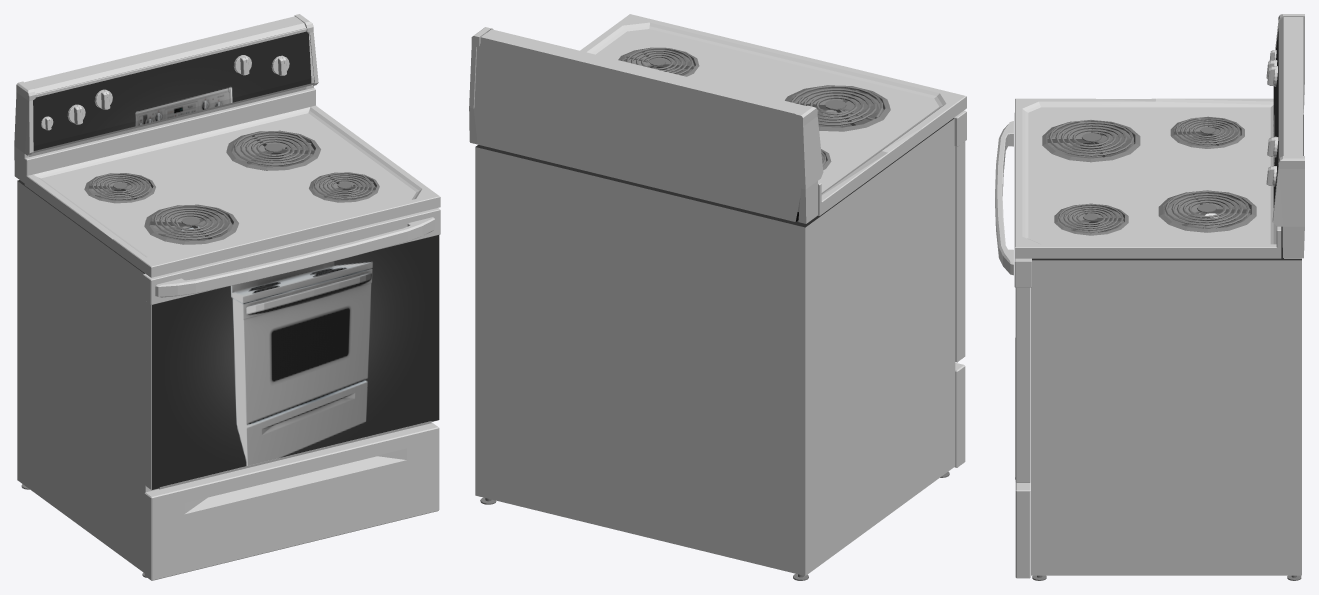
The model's file is oven.fbx.
The picture shows the model from 3 angles, left to right: view 1: azimuth 30°, elevation 25°; view 2: azimuth 150°, elevation 25°; view 3: azimuth 270°, elevation 25°; orthographic projection. The views are drawn at different scales.
Parts seen in each view (by area): view 1: oven, Oven_backsplash, oven_grates, Oven_Material #647, oven_knobs; view 2: oven, oven_grates, Oven_backsplash; view 3: oven, oven_grates, Oven_backsplash, oven_knobs.
Boxes of the visible parts, box(x1,y1,x2,y2) form: oven: box(14, 14, 440, 580); Oven_backsplash: box(17, 31, 352, 273); oven_grates: box(84, 130, 379, 244); Oven_Material #647: box(29, 86, 431, 489); oven_knobs: box(41, 55, 289, 130); oven: box(469, 14, 966, 575); oven_grates: box(618, 47, 890, 169); Oven_backsplash: box(475, 66, 953, 227); oven: box(995, 14, 1304, 578); oven_grates: box(1042, 117, 1256, 235); Oven_backsplash: box(1032, 28, 1301, 260); oven_knobs: box(1266, 50, 1278, 186).
Size of the model in its own units: 1.23 by 1.63 by 1.08.
